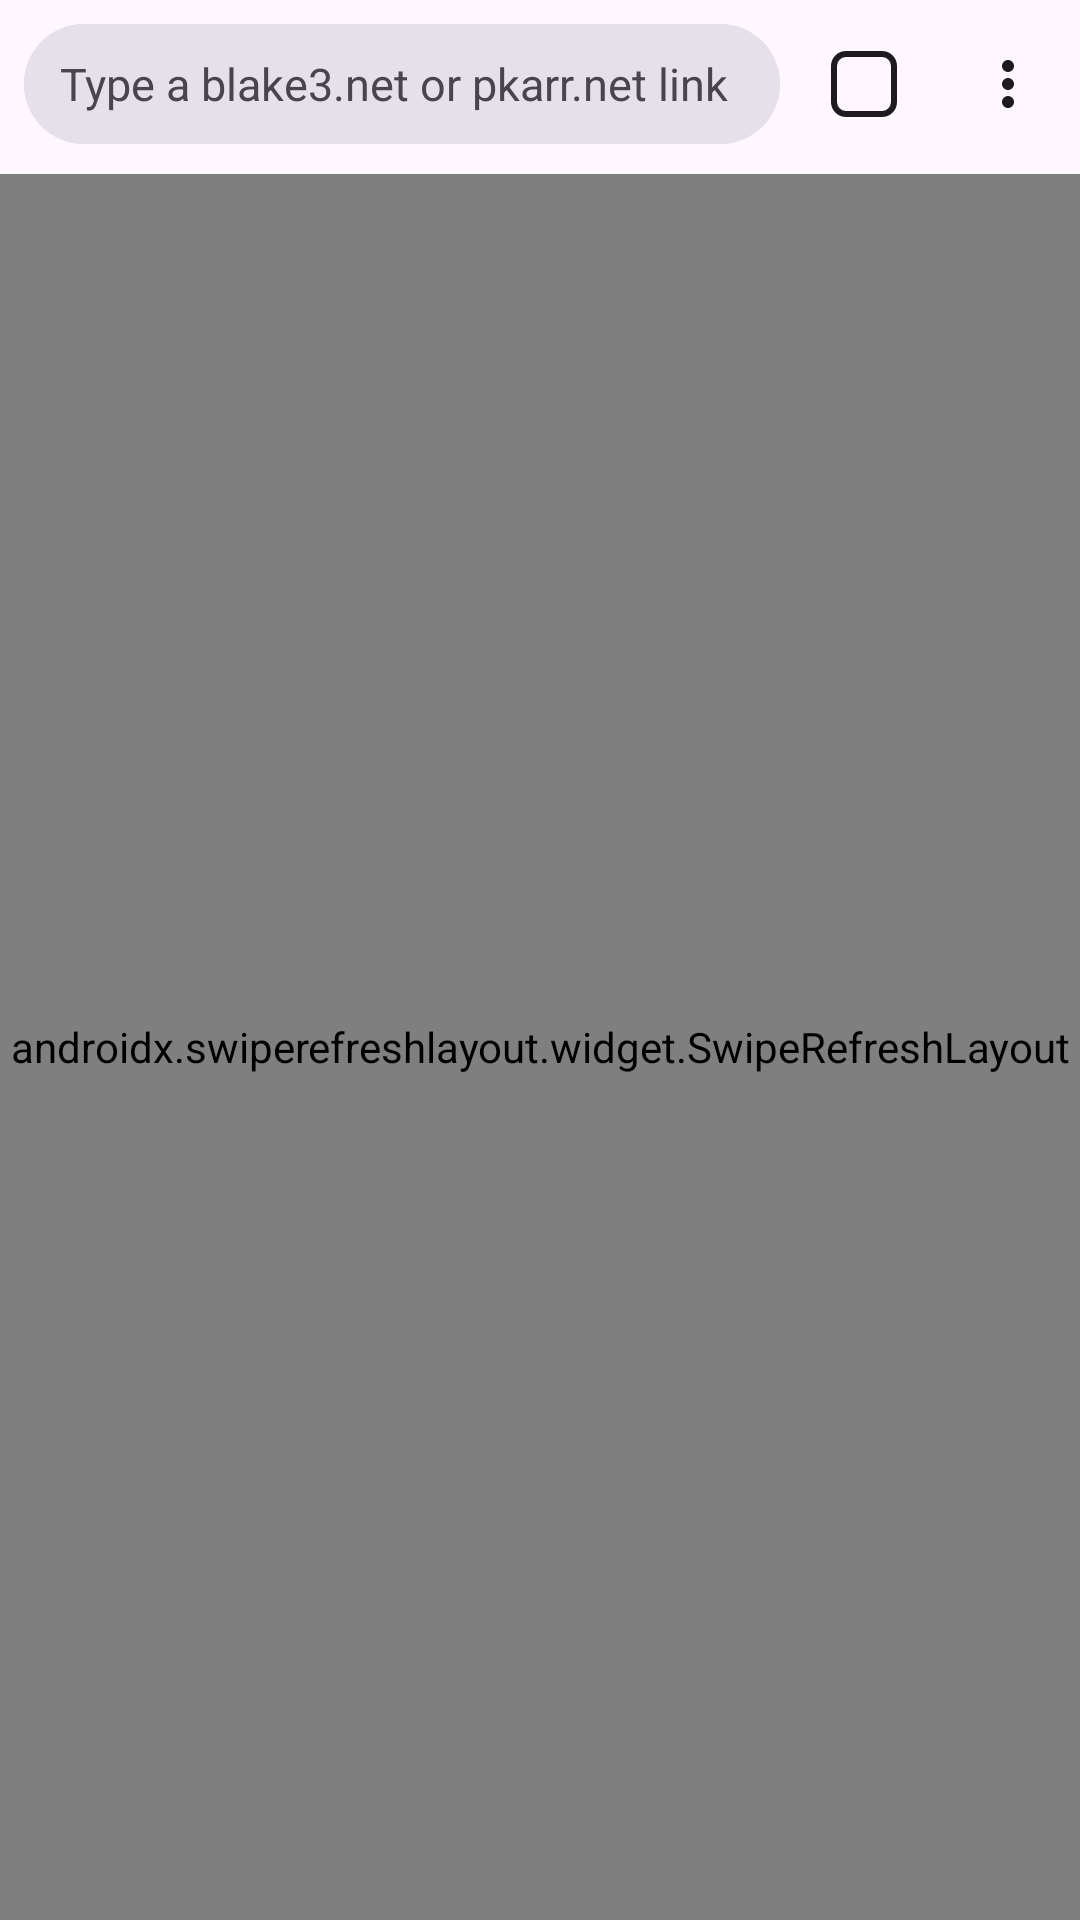

Icons on this 1080 x 1920 Android screen, each with its box as [x1=x1, y1=y1, x2=x2, y2=y2]:
More options: [x1=1002, y1=60, x2=1014, y2=108]
